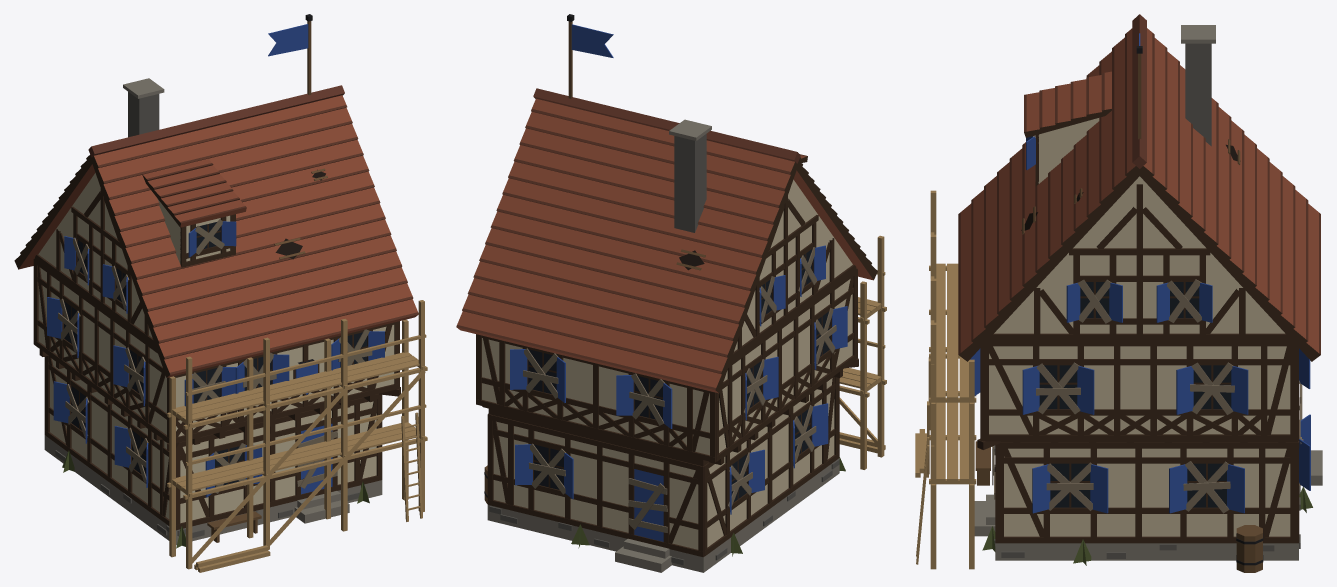
File: buergerhaus.glb
The picture shows the model from 3 angles, left to right: view 1: azimuth 30°, elevation 25°; view 2: azimuth 150°, elevation 25°; view 3: azimuth 270°, elevation 25°; orthographic projection. The views are drawn at different scales.
Parts seen in each view (by area): view 1: Haus, Geruest, Leerstand, Fahne; view 2: Haus, Leerstand, Geruest, Fahne; view 3: Haus, Geruest, Leerstand.
Boxes of the visible parts, bbox=[...] form: Haus: bbox=[14, 78, 418, 545]; Geruest: bbox=[167, 300, 427, 572]; Leerstand: bbox=[57, 168, 372, 548]; Fahne: bbox=[268, 14, 312, 95]; Haus: bbox=[456, 88, 877, 572]; Leerstand: bbox=[523, 247, 845, 556]; Geruest: bbox=[839, 235, 886, 469]; Fahne: bbox=[567, 14, 613, 98]; Haus: bbox=[958, 14, 1322, 572]; Geruest: bbox=[915, 190, 976, 569]; Leerstand: bbox=[982, 135, 1312, 565].
Bounding box in the file's own units: 7.87 × 13.09 × 9.52.
